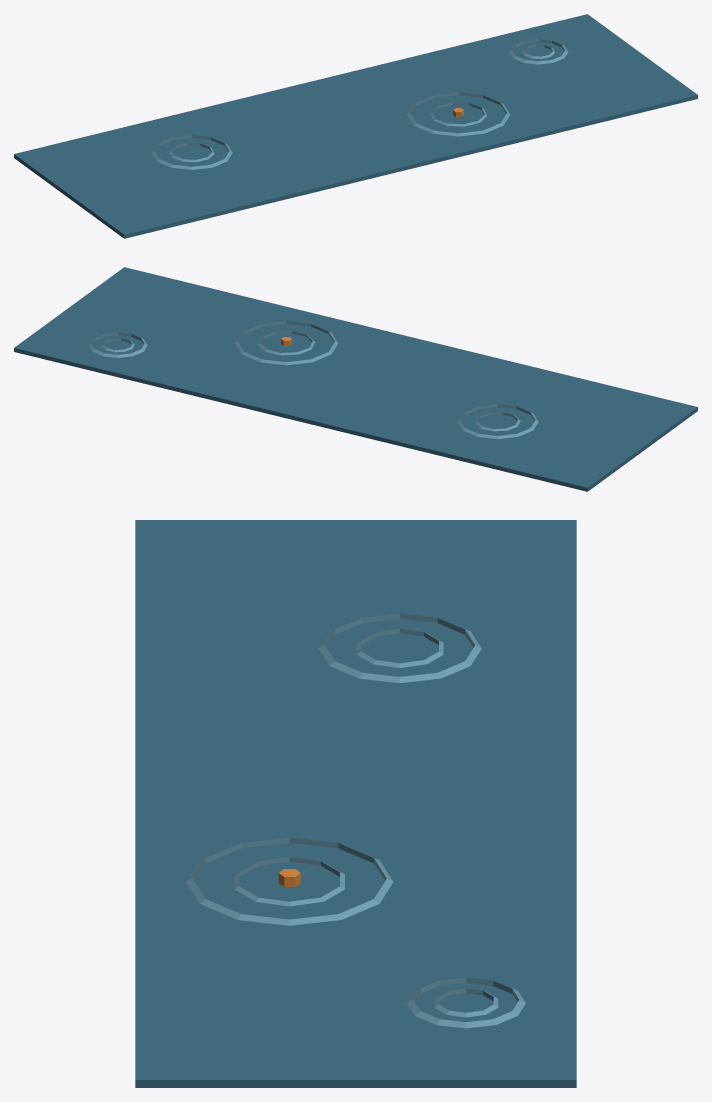
File: fishing-water.glb
The picture shows the model from 3 angles, top to bottom: view 1: azimuth 30°, elevation 25°; view 2: azimuth 150°, elevation 25°; view 3: azimuth 270°, elevation 25°; orthographic projection. The views are drawn at different scales.
Parts seen in each view (by area): view 1: fishing-water; view 2: fishing-water; view 3: fishing-water.
Part boxes in pixels (x1,y1,x2,y2): fishing-water: (14, 14, 697, 238); fishing-water: (14, 267, 697, 491); fishing-water: (135, 520, 576, 1087).
Bounding box in the file's own units: 6 × 0.095 × 2.
